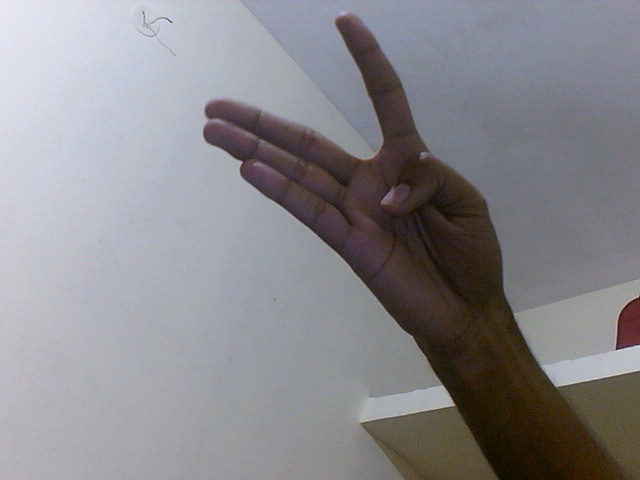hand: (200, 11, 517, 352)
